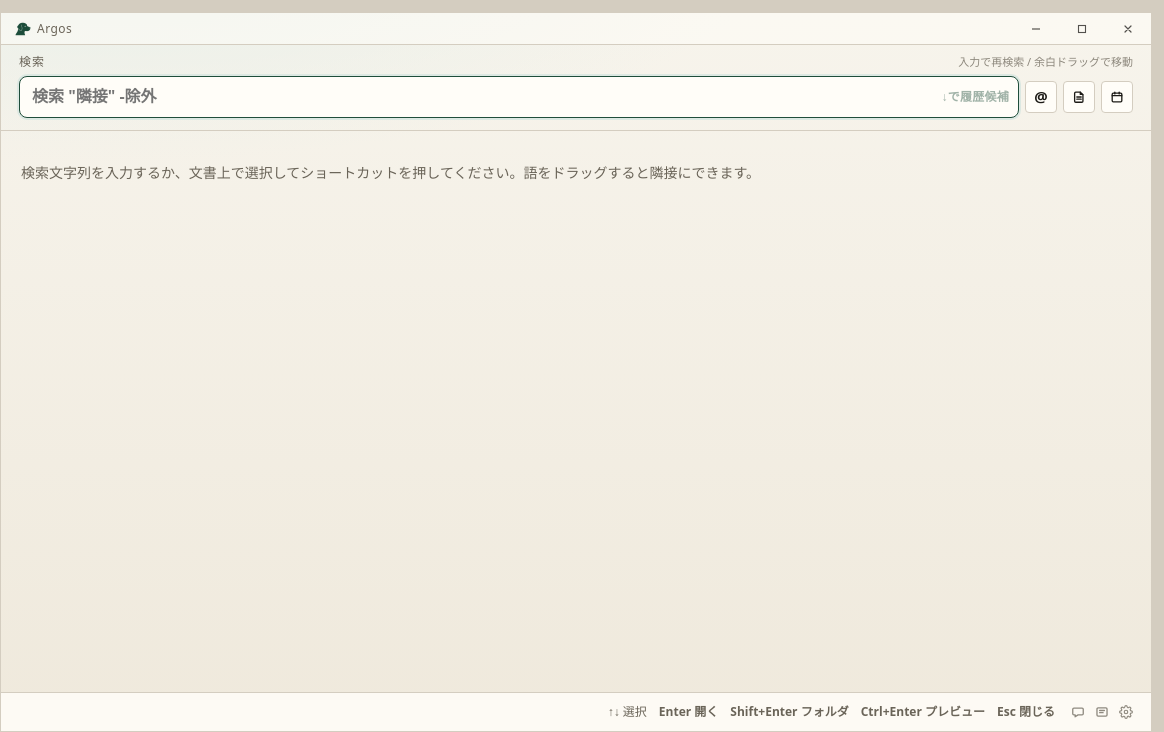
Test: Popup keyboard › does not render outlook ids
Type "売掛金" into the field at coordinates (519, 97), box left=19, top=76, right=1019, bottom=118
Wait 500 ms
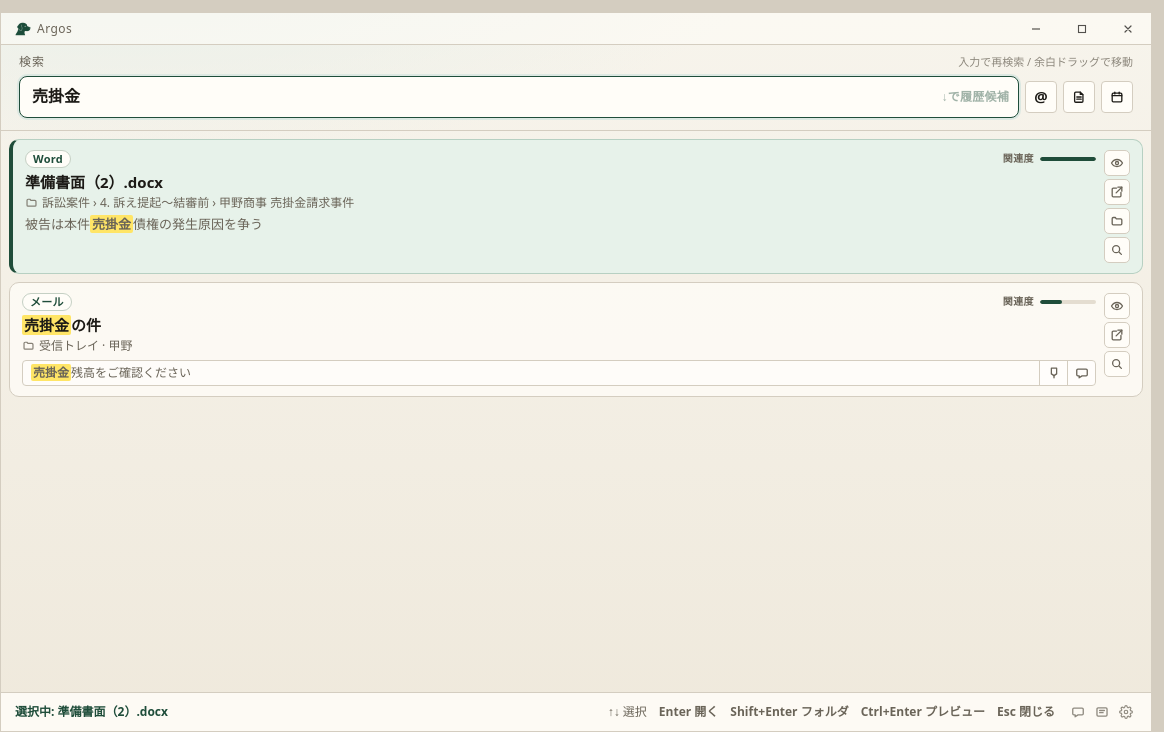
Check: the text "メール" is shown, box left=22, top=293, right=72, bottom=311
Check: the text "訴訟案件 › 4. 訴え提起〜結審前 › 甲野商事 売掛金請求事件" is shown, box left=42, top=194, right=354, bottom=211
